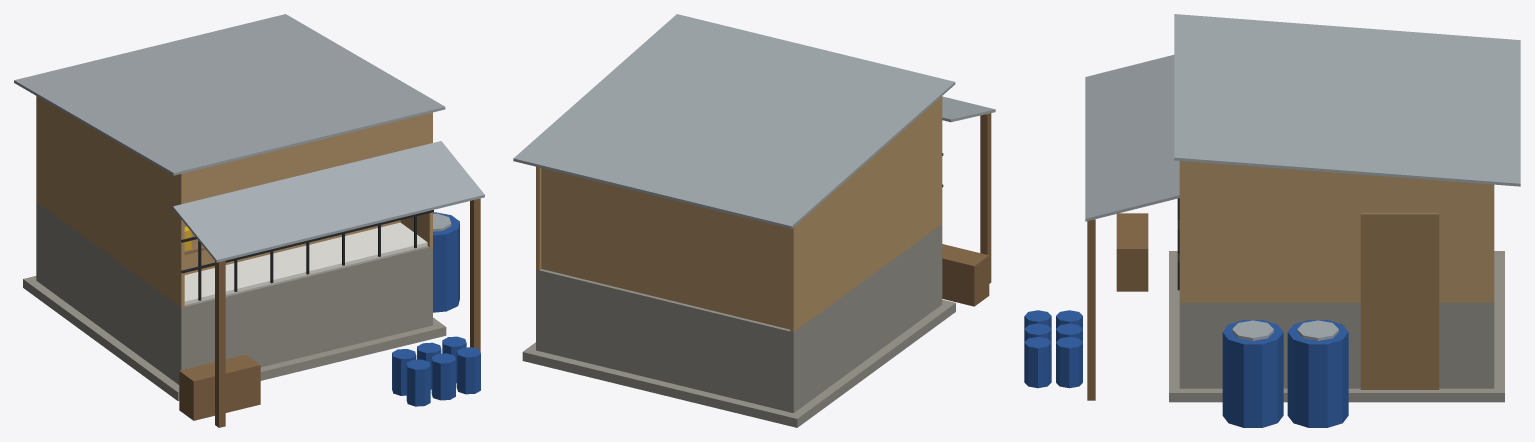
The model's file is BAY_I_SariSari_E.glb.
The picture shows the model from 3 angles, left to right: view 1: azimuth 30°, elevation 25°; view 2: azimuth 150°, elevation 25°; view 3: azimuth 270°, elevation 25°; orthographic projection. The views are drawn at different scales.
Visible parts, largest first — view 1: BAY_I_SariSari_E; view 2: BAY_I_SariSari_E; view 3: BAY_I_SariSari_E.
Boxes of the visible parts, bbox=[...] form: BAY_I_SariSari_E: bbox=[14, 14, 484, 427]; BAY_I_SariSari_E: bbox=[513, 14, 995, 427]; BAY_I_SariSari_E: bbox=[1024, 14, 1520, 427].
Size of the model in its own units: 3.88 by 2.58 by 4.73.
1 material, 1 textured.
